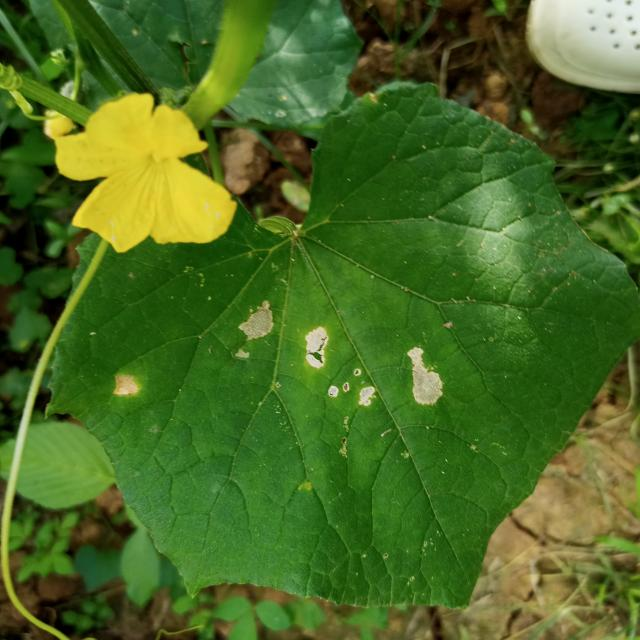disease_cucumber: (234, 301, 446, 411), (113, 372, 142, 397)
